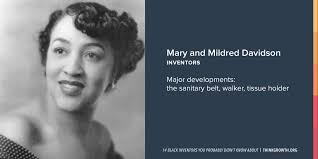black_female: (41, 1, 133, 121)
